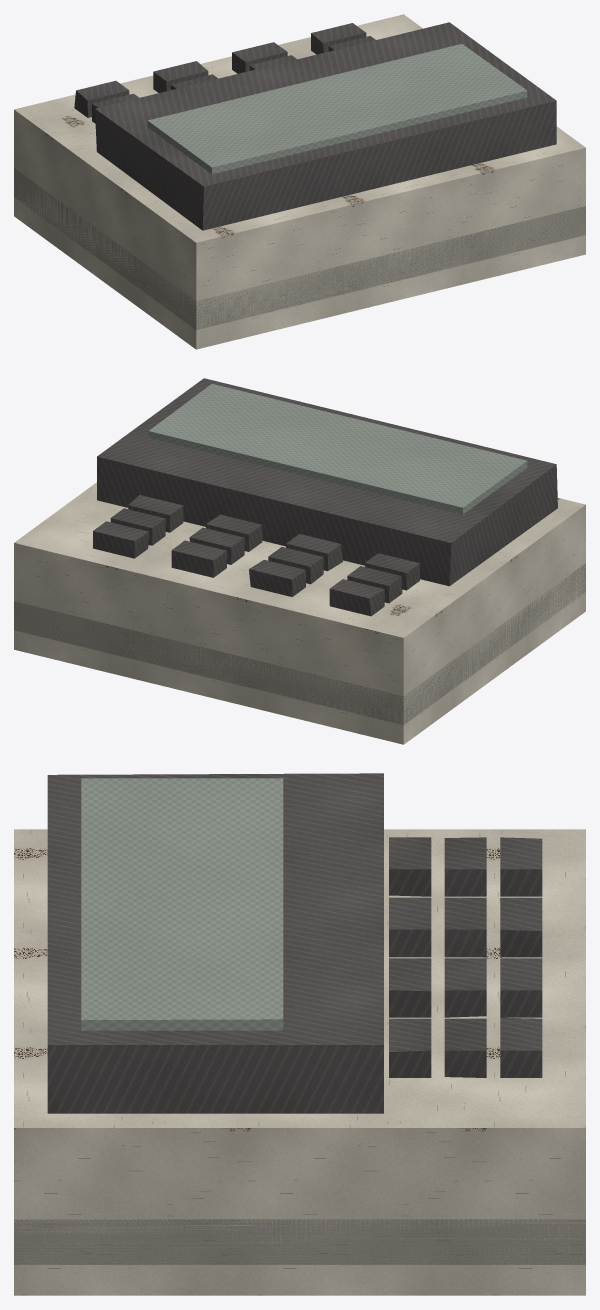
Rendered from register_v2.glb.
3 views of the same model, one above another, from view 1: azimuth 30°, elevation 25°; view 2: azimuth 150°, elevation 25°; view 3: azimuth 270°, elevation 25° (orthographic). The views are drawn at different scales.
Visible parts, largest first — view 1: Variant_register_2; view 2: Variant_register_2; view 3: Variant_register_2.
Part boxes in pixels (bbox=[...]): Variant_register_2: bbox=[14, 14, 585, 349]; Variant_register_2: bbox=[14, 378, 585, 744]; Variant_register_2: bbox=[14, 773, 585, 1295].
Size of the model in its own units: 0.42 by 0.162 by 0.34.
Materials: 4 (4 with a texture image).
